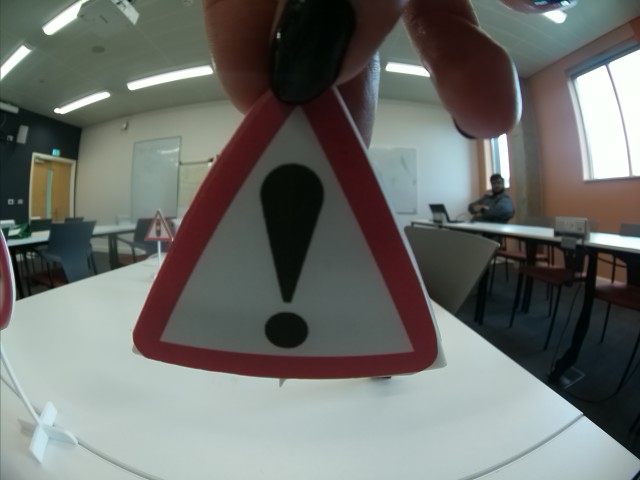Traffic lights: (142, 208, 173, 242)
Warning: (132, 96, 444, 377)
